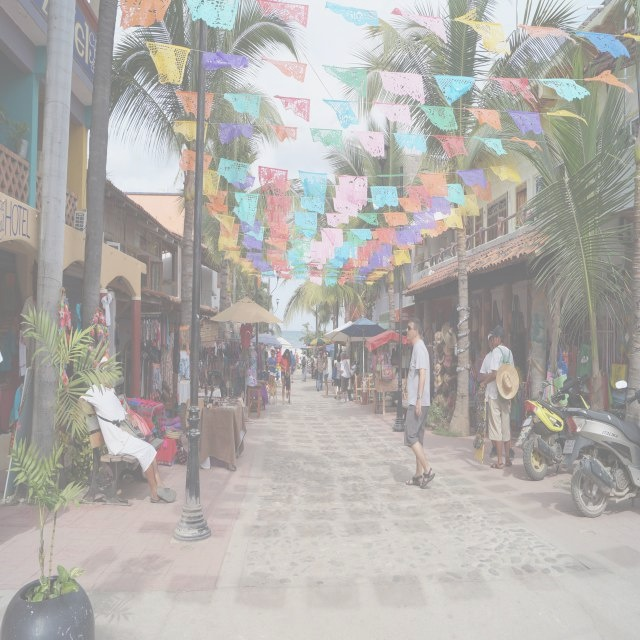pessoa: (73, 353, 178, 504), (402, 315, 436, 489), (478, 323, 516, 470), (478, 332, 516, 462), (278, 348, 294, 405), (338, 352, 351, 403), (245, 344, 259, 386), (331, 354, 342, 400), (320, 351, 329, 399), (268, 348, 278, 388), (380, 351, 392, 383), (316, 351, 324, 392), (300, 350, 309, 382), (284, 366, 292, 401), (290, 350, 296, 383), (293, 348, 299, 373), (312, 354, 320, 369), (350, 359, 357, 376), (326, 351, 328, 357)
